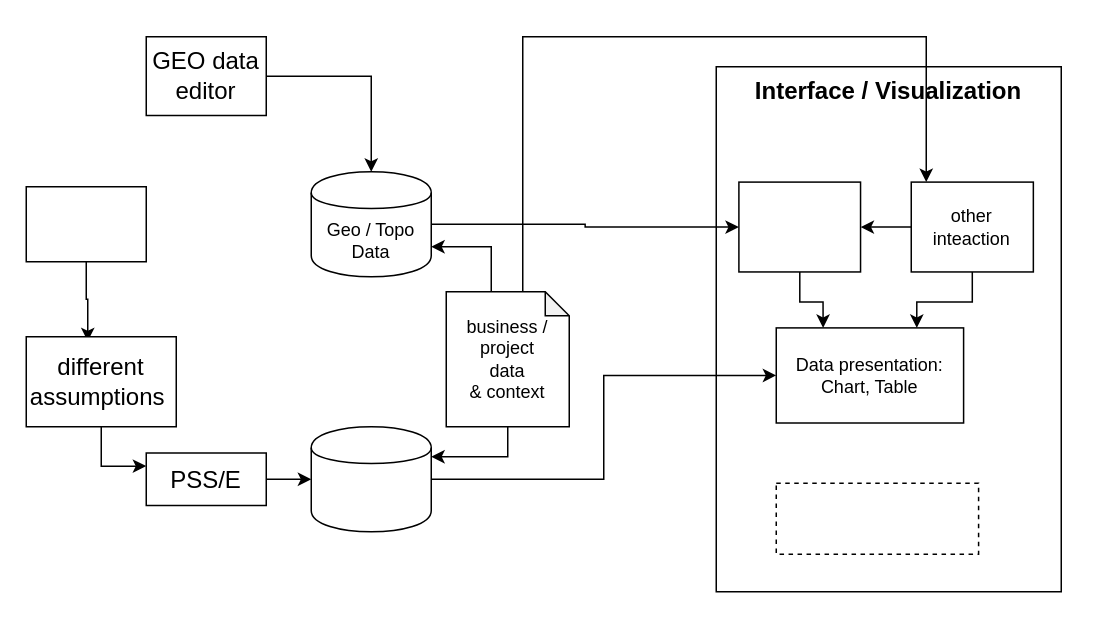
This 1103x618 diagram has some shape labels left out. The centre of each missing label's shape, as x and y in pixels:
"base cases" goes at point (85, 223).
"Map" goes at point (799, 226).
"Technical data" goes at point (370, 478).
"usser access control" goes at point (877, 518).
